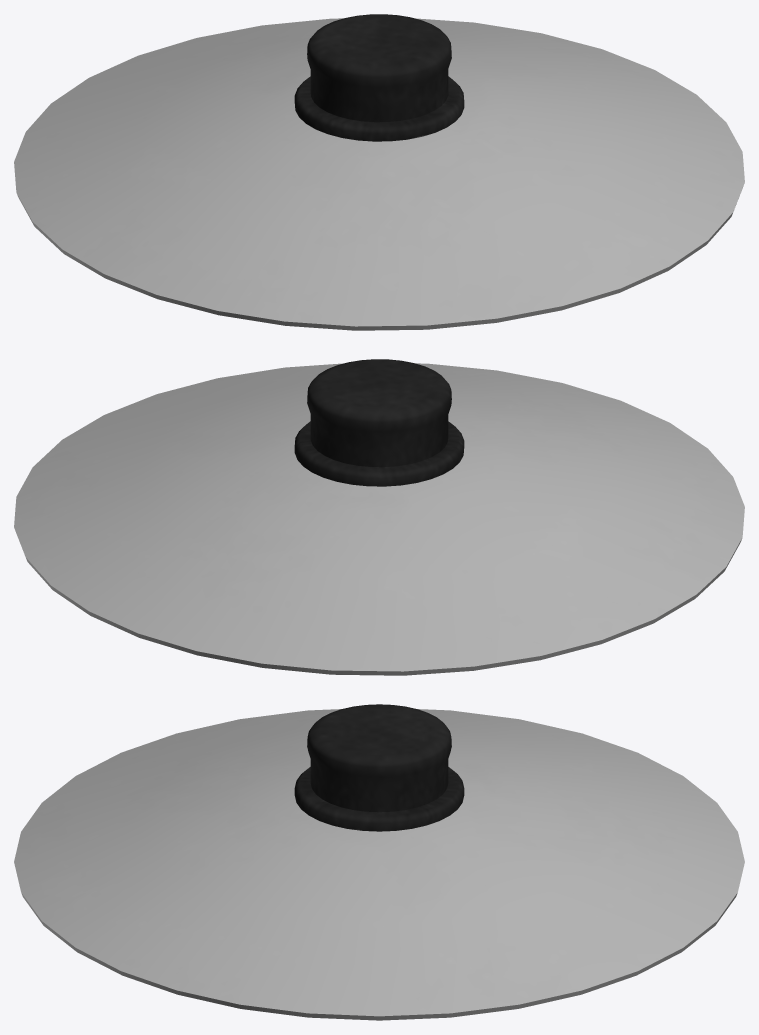
Rendered from Pot_01_Lid 1.FBX.
The picture shows the model from 3 angles, top to bottom: view 1: azimuth 30°, elevation 25°; view 2: azimuth 150°, elevation 25°; view 3: azimuth 270°, elevation 25°; orthographic projection.
Parts seen in each view (by area): view 1: Pot_01_Lid; view 2: Pot_01_Lid; view 3: Pot_01_Lid.
Boxes of the visible parts, bbox=[...] form: Pot_01_Lid: bbox=[14, 14, 744, 330]; Pot_01_Lid: bbox=[14, 359, 744, 675]; Pot_01_Lid: bbox=[14, 704, 744, 1020].
Bounding box in the file's own units: 25.13 × 5.18 × 25.13.
Materials: 1 (1 with a texture image).
